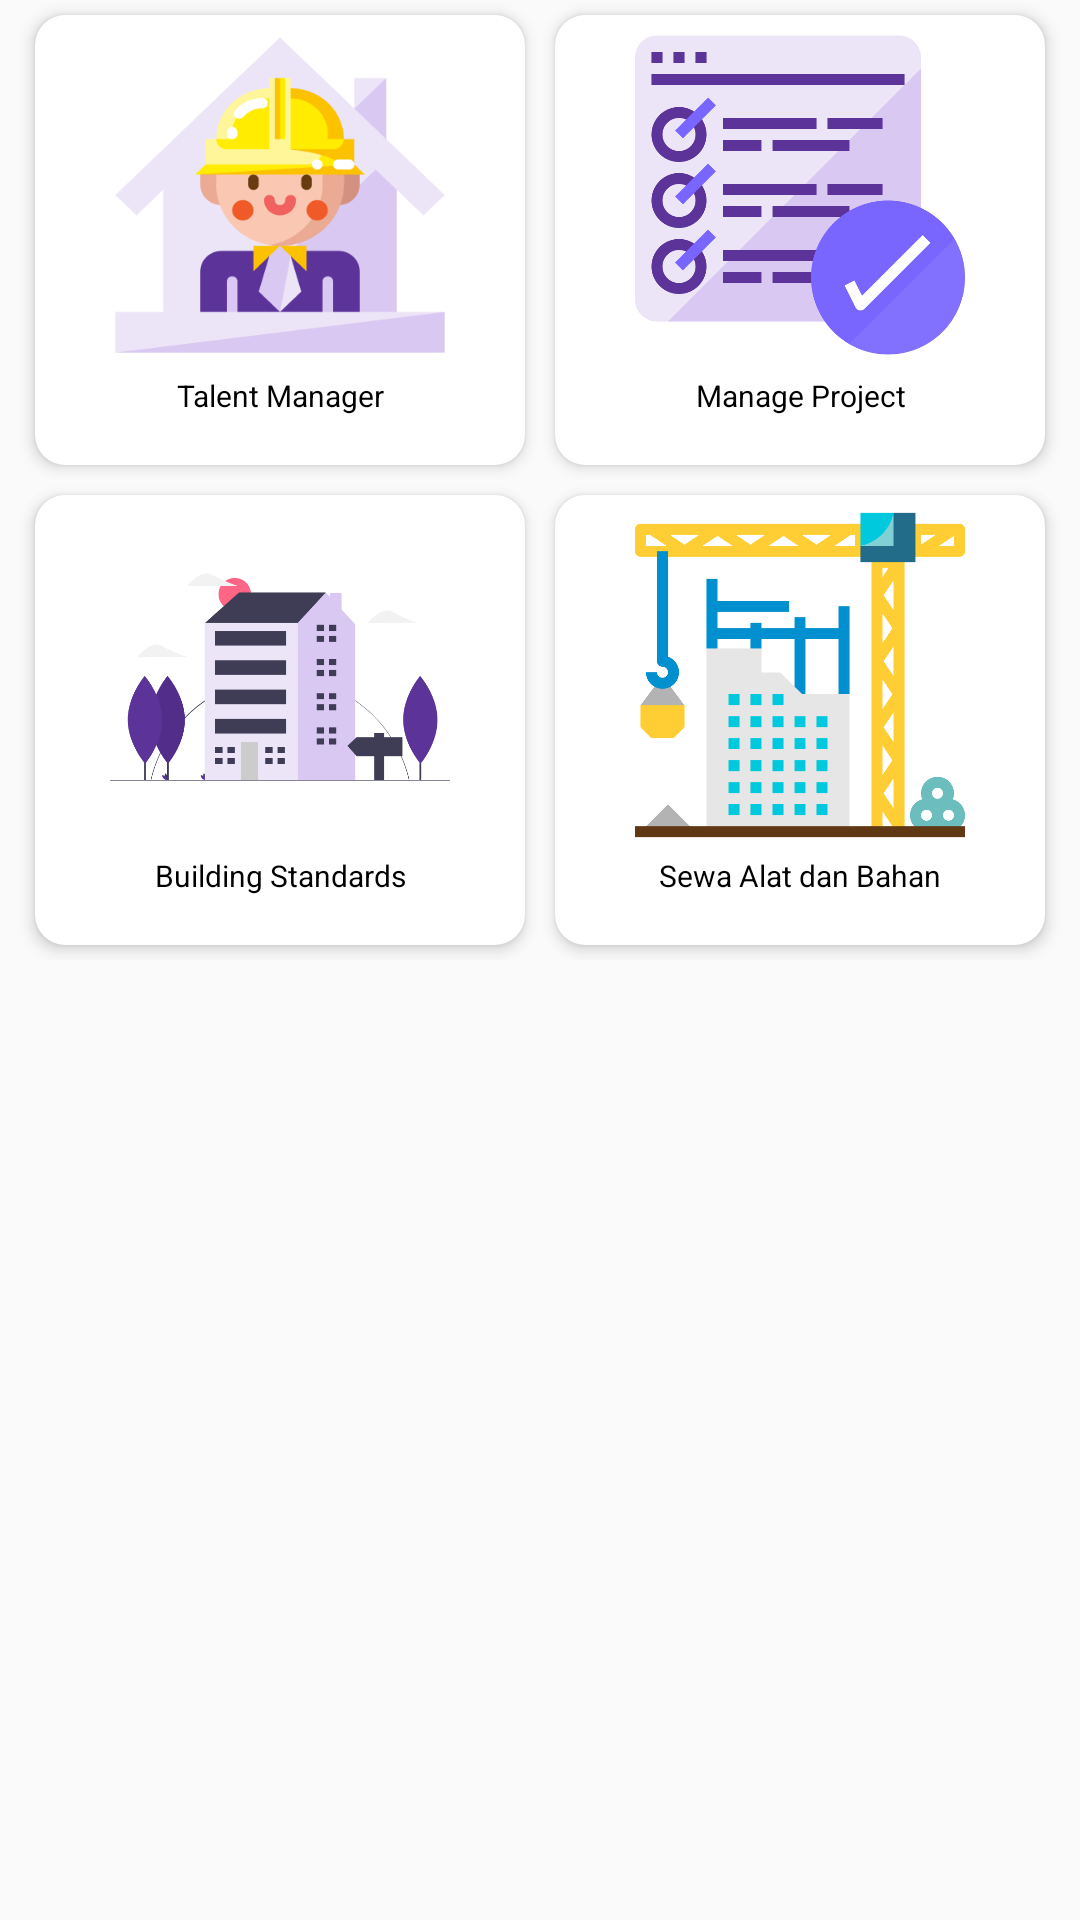

Screen size 1080*1920. Icon name, then its box in pixels as {"x1": x1, "y1": y1, "x2": x2, "y2": y2}:
builder: {"x1": 116, "y1": 39, "x2": 445, "y2": 353}
checklist: {"x1": 635, "y1": 36, "x2": 965, "y2": 355}
